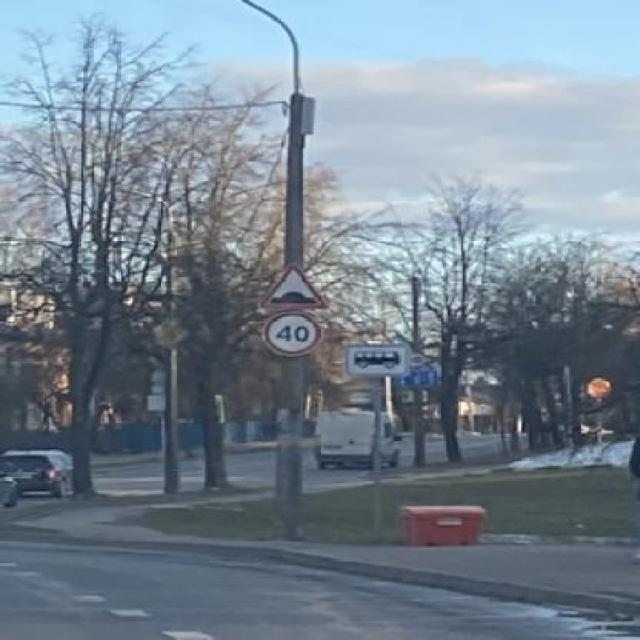forb_speed_over_40: (264, 308, 322, 355)
